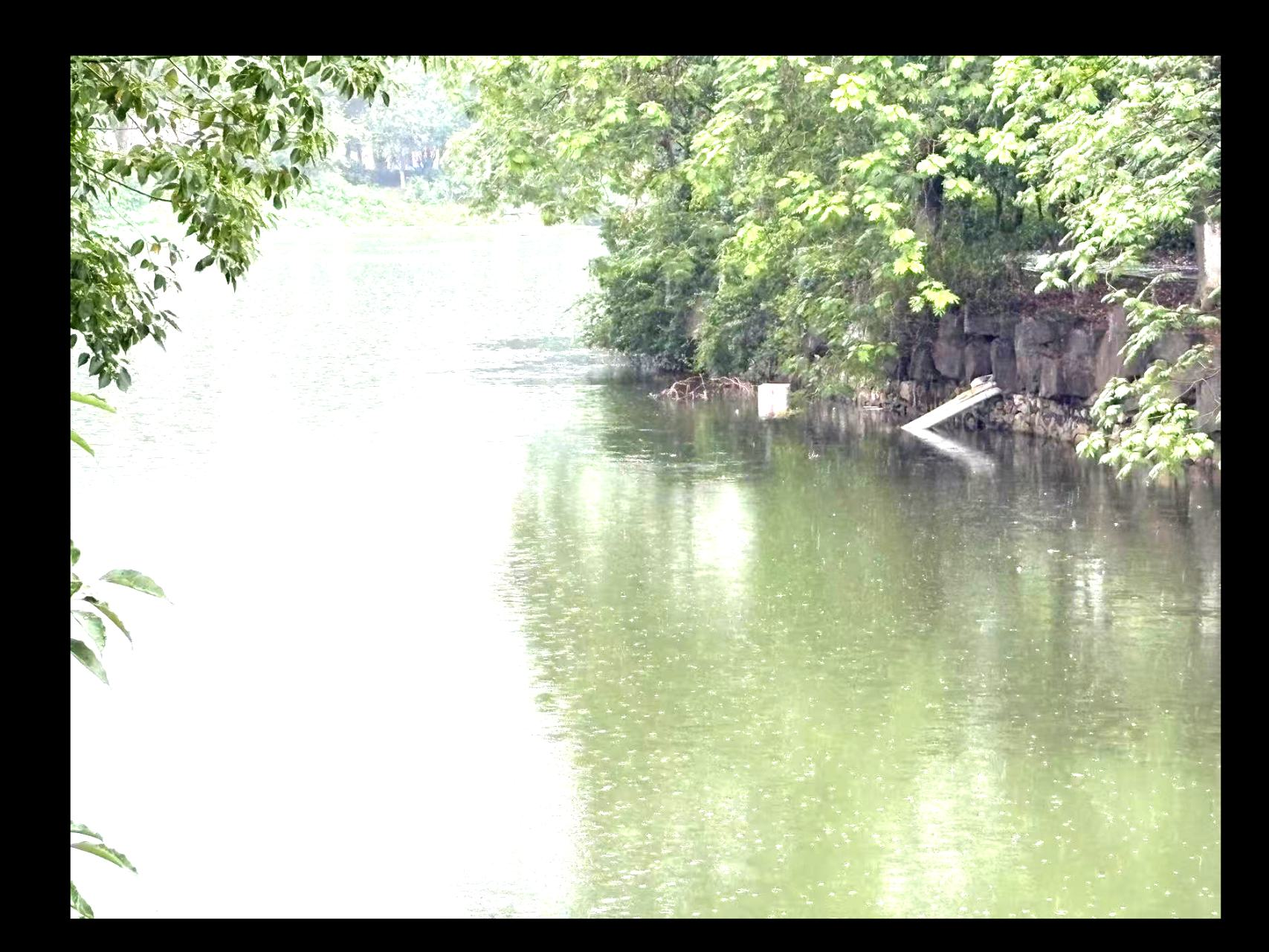Plastic wastes: (758, 379, 791, 410)
